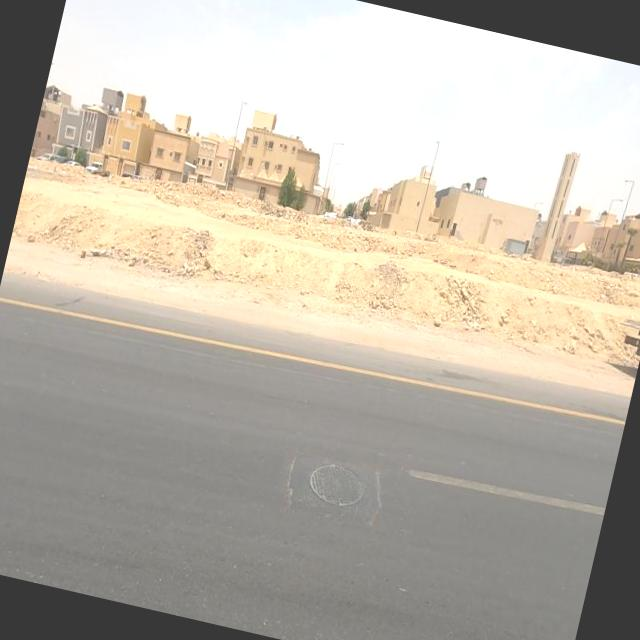debris: (444, 288, 507, 367)
